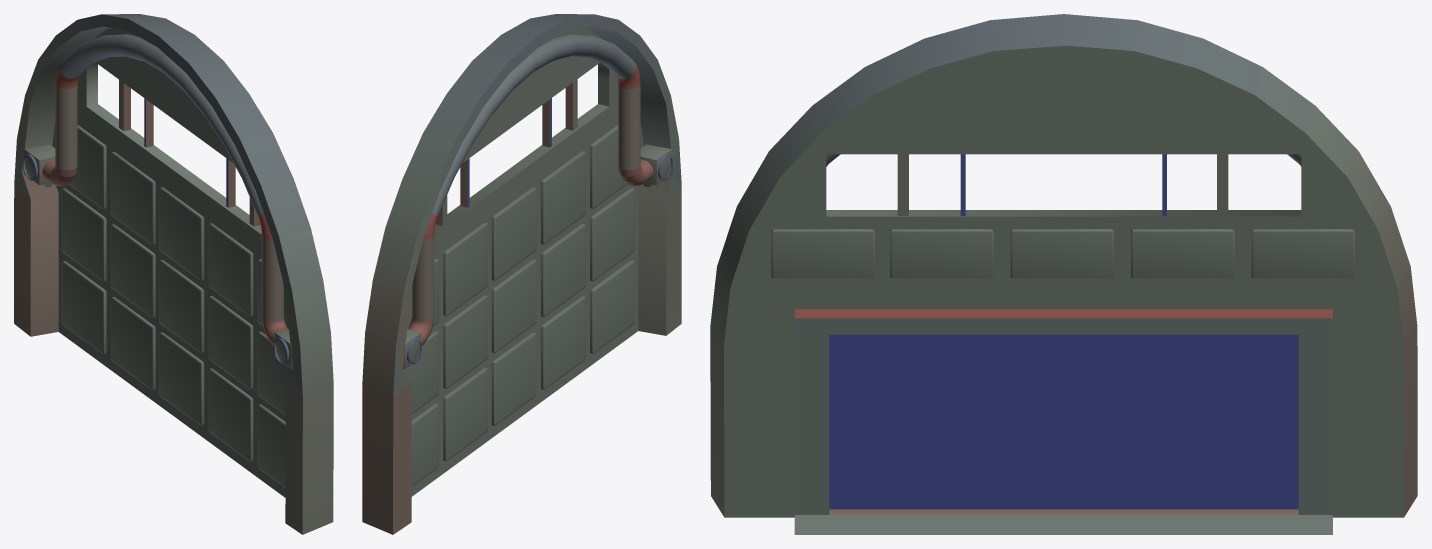
The model's file is wall_Enviro_02_ 1.fbx.
3 views of the same model, side by side, from view 1: azimuth 30°, elevation 25°; view 2: azimuth 150°, elevation 25°; view 3: azimuth 270°, elevation 25° (orthographic). The views are drawn at different scales.
Visible parts, largest first — view 1: Wall, Mesh (12), Pipes, Mesh (7), Mesh (10), Mesh (11), Panels, Mesh (8), Mesh (2), Mesh (5), Mesh (4), Mesh (13) (+3 smaller); view 2: Wall, Mesh (12), Pipes, Mesh (7), Mesh (10), Mesh (8), Mesh (11), Mesh (13), Mesh (5), Mesh (14), Mesh (4), Mesh (2) (+3 smaller); view 3: Wall, Gate, Mesh (15), Mesh (3), Mesh (6), Mesh (12), Mesh (9), window_pins.
Part boxes in pixels (x1,y1,x2,y2): Wall: (14, 14, 333, 534); Mesh (12): (69, 125, 288, 329); Pipes: (42, 34, 288, 345); Mesh (7): (159, 332, 204, 425); Mesh (10): (208, 368, 253, 461); Mesh (11): (208, 295, 253, 389); Panels: (61, 188, 106, 281); Mesh (8): (159, 259, 204, 353); Mesh (2): (61, 261, 106, 354); Mesh (5): (111, 224, 155, 317); Mesh (4): (111, 296, 155, 390); Mesh (13): (257, 404, 285, 487); Wall: (362, 14, 681, 534); Mesh (12): (407, 125, 626, 329); Pipes: (408, 34, 653, 345); Mesh (7): (491, 332, 536, 425); Mesh (10): (540, 296, 585, 389); Mesh (8): (491, 259, 536, 353); Mesh (11): (540, 223, 585, 317); Mesh (13): (590, 260, 634, 353); Mesh (5): (443, 295, 487, 388); Mesh (14): (590, 187, 634, 281); Mesh (4): (443, 367, 487, 461); Mesh (2): (411, 403, 438, 486); Wall: (710, 14, 1417, 517); Gate: (794, 309, 1332, 534); Mesh (15): (1251, 229, 1354, 278); Mesh (3): (771, 229, 874, 278); Mesh (6): (890, 229, 993, 278); Mesh (12): (1131, 229, 1234, 278); Mesh (9): (1010, 229, 1113, 278); window_pins: (897, 154, 1228, 215).
Bounding box in the file's own units: 285 × 1545 × 2055.
